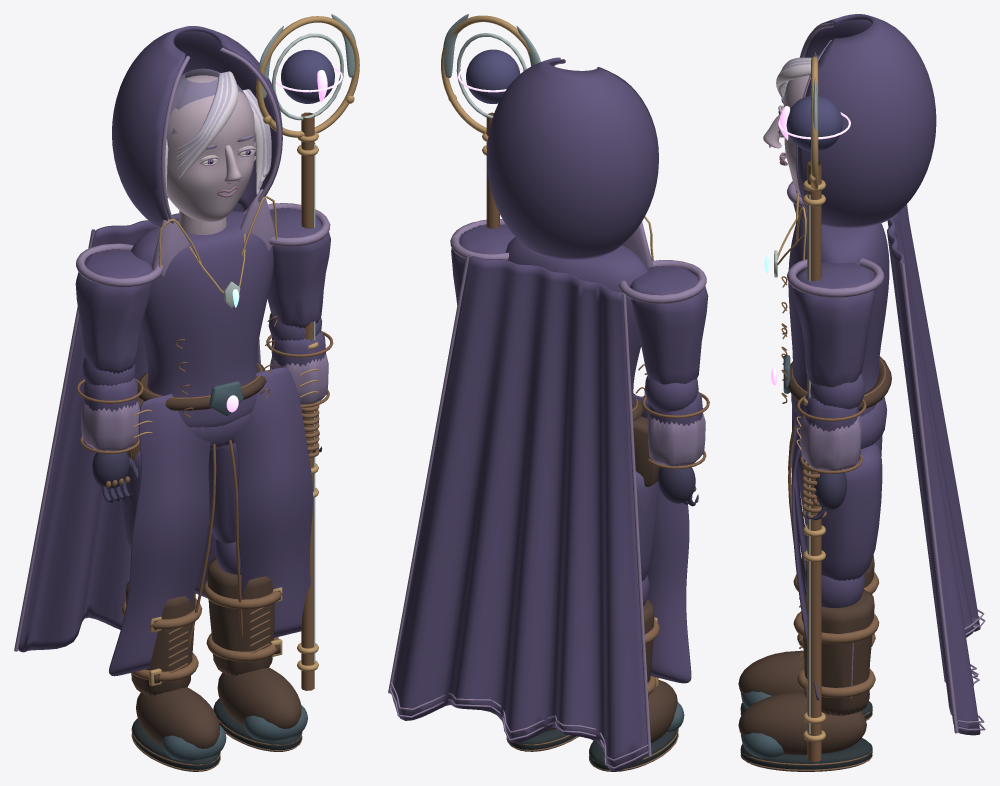
File: vex.glb
The picture shows the model from 3 angles, left to right: view 1: azimuth 30°, elevation 25°; view 2: azimuth 150°, elevation 25°; view 3: azimuth 270°, elevation 25°; orthographic projection. The views are drawn at different scales.
Visible parts, largest first — view 1: cloak • twilight velvet, body • twilight velvet, head • twilight velvet, leftArm • twilight velvet, rightKnee • Oiled brown leather, head • lilac porcelain, rightArm • twilight velvet, leftKnee • Oiled brown leather, leftArm • woven lilac lining, weapon • Tarnished bronze, weapon • Salvage brass, rightArm • woven lilac lining (+26 smaller); view 2: cloak • twilight velvet, head • twilight velvet, leftArm • twilight velvet, cloak • woven lilac lining, body • twilight velvet, leftArm • woven lilac lining, weapon • glassy obsidian, leftKnee • Oiled brown leather, rightArm • twilight velvet, leftLeg • twilight velvet, weapon • Salvage brass, body • Oiled brown leather (+10 smaller); view 3: head • twilight velvet, cloak • twilight velvet, rightArm • twilight velvet, rightKnee • Oiled brown leather, body • twilight velvet, rightLeg • twilight velvet, weapon • Tarnished bronze, rightArm • woven lilac lining, cloak • woven lilac lining, leftKnee • Oiled brown leather, rightKnee • raised welt, weapon • glassy obsidian (+15 smaller).
Boxes of the visible parts, x1,y1,x2,y2 form: cloak • twilight velvet: (18,202,312,676); body • twilight velvet: (131,211,273,450); head • twilight velvet: (112,26,282,228); leftArm • twilight velvet: (75,249,153,411); rightKnee • Oiled brown leather: (207,557,301,728); head • lilac porcelain: (167,75,256,234); rightArm • twilight velvet: (267,207,330,366); leftKnee • Oiled brown leather: (125,581,219,748); leftArm • woven lilac lining: (76,243,163,451); weapon • Tarnished bronze: (301,112,314,690); weapon • Salvage brass: (256,16,359,671); rightArm • woven lilac lining: (268,203,330,404); cloak • twilight velvet: (391,256,691,771); head • twilight velvet: (486,57,658,260); leftArm • twilight velvet: (630,266,708,426); cloak • woven lilac lining: (388,255,651,768); body • twilight velvet: (505,237,647,405); leftArm • woven lilac lining: (618,260,706,466); weapon • glassy obsidian: (466,49,520,103); leftKnee • Oiled brown leather: (643,599,677,743); rightArm • twilight velvet: (451,224,515,304); leftLeg • twilight velvet: (635,471,659,580); weapon • Salvage brass: (441,15,535,155); body • Oiled brown leather: (632,393,659,486); head • twilight velvet: (797,14,936,228); cloak • twilight velvet: (792,205,980,735); rightArm • twilight velvet: (793,262,875,432); rightKnee • Oiled brown leather: (738,589,874,754); body • twilight velvet: (788,207,889,448); rightLeg • twilight velvet: (797,443,882,580); weapon • Tarnished bronze: (807,161,821,761); rightArm • woven lilac lining: (787,258,884,470); cloak • woven lilac lining: (900,204,985,733); leftKnee • Oiled brown leather: (738,555,874,695); rightKnee • raised welt: (740,611,879,771); weapon • glassy obsidian: (786,95,842,151).
Bounding box in the file's own units: 0.8377 × 2.02 × 0.6228.
